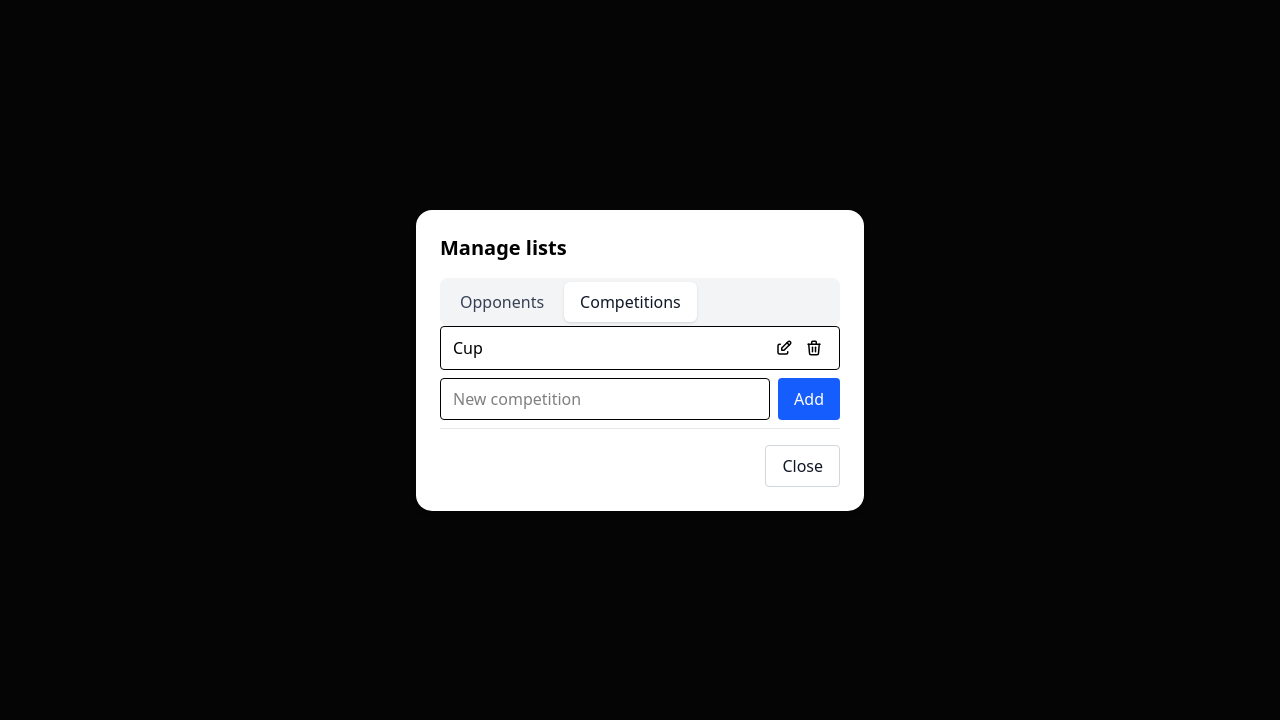
a rejected competition create renders the service's error message and creates nothing (AC GREF-02.2)
Expected: the text "Cup" is shown, [453,336,483,360]
Type "Cup" into the field labelled "New competition".
click(605, 398); type("Cup")  # box [440,378,770,420]
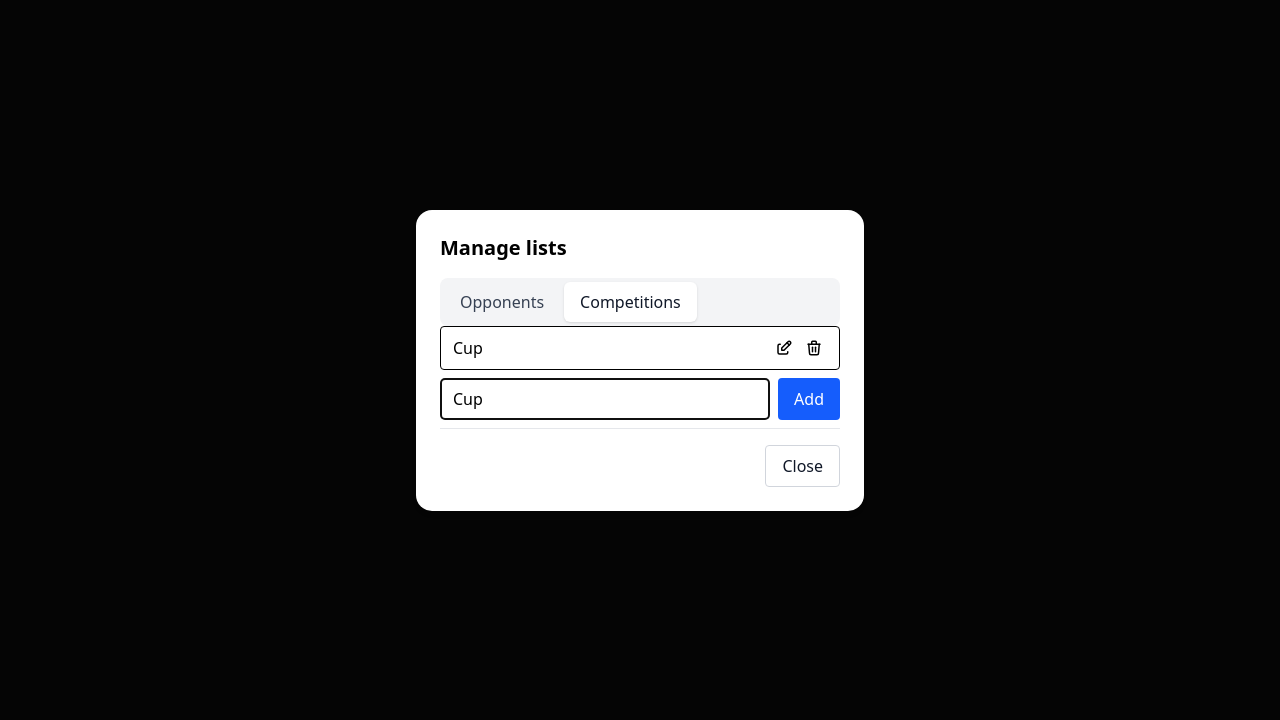
Click the button "Add".
click(809, 398)  # box [778,378,840,420]
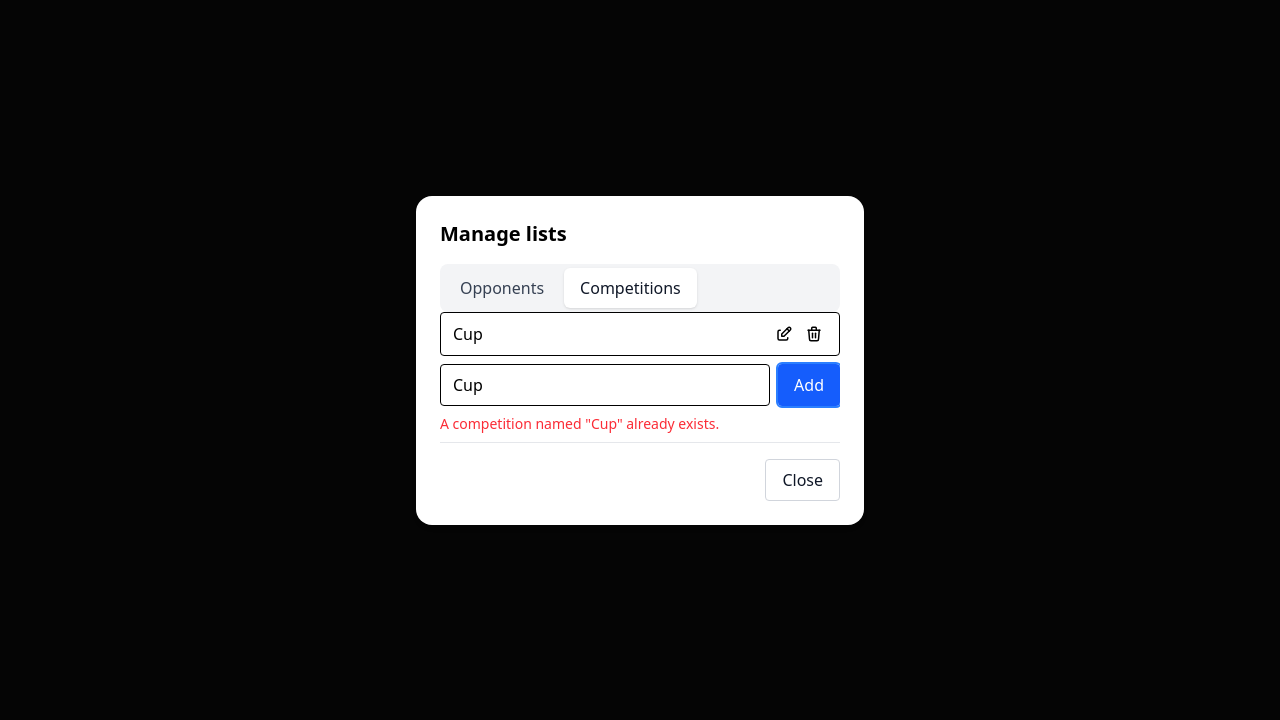
Result: the text "A competition named \"Cup\" already exists." is shown at [440,414,719,432]
